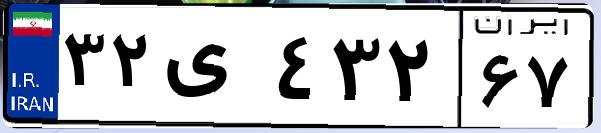2: (385, 28, 445, 110), (110, 28, 158, 98)
3: (330, 28, 385, 110), (57, 26, 110, 100)
4: (270, 28, 330, 110)
6: (475, 38, 525, 113)
7: (525, 38, 570, 115)
ی: (158, 20, 270, 120)
